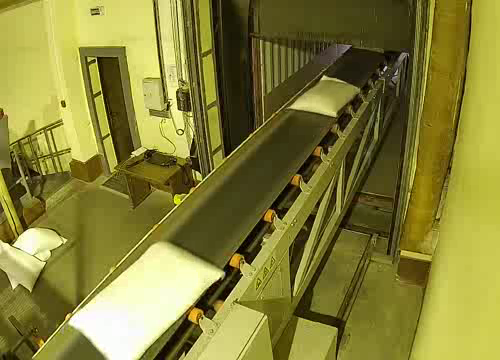bag: (66, 242, 227, 360), (283, 75, 364, 121), (351, 44, 385, 55)
